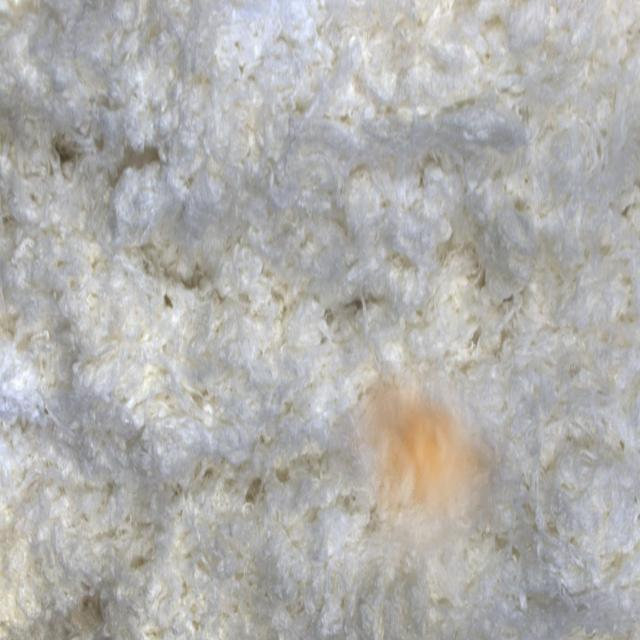dust: (327, 361, 511, 598)
